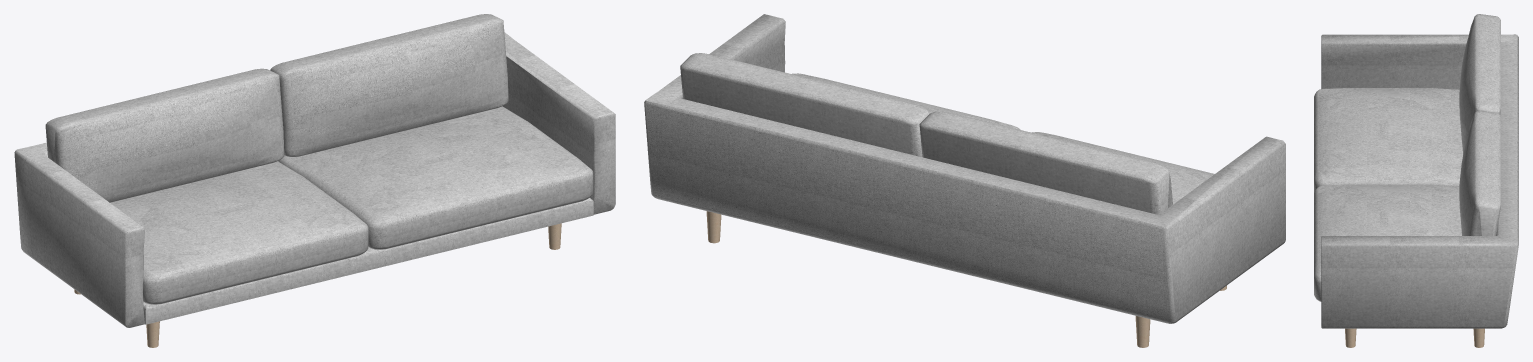
3 renders of one model, left to right at view 1: azimuth 30°, elevation 25°; view 2: azimuth 150°, elevation 25°; view 3: azimuth 270°, elevation 25°, orthographic. The views are drawn at different scales.
Parts seen in each view (by area): view 1: group_1, group_4, group_3, group_6, group_5; view 2: group_1, group_5, group_6, group_3, group_4; view 3: group_1, group_3, group_4, group_6, group_5, SketchUp (×2).
Part boxes in pixels (x1=…): group_1: x1=14, y1=32, x2=615, y2=327; group_4: x1=278, y1=106, x2=593, y2=249; group_3: x1=110, y1=161, x2=368, y2=304; group_6: x1=270, y1=14, x2=508, y2=156; group_5: x1=45, y1=68, x2=284, y2=202; group_1: x1=644, y1=14, x2=1285, y2=323; group_5: x1=919, y1=111, x2=1172, y2=214; group_6: x1=680, y1=53, x2=929, y2=156; group_3: x1=1032, y1=132, x2=1214, y2=204; group_4: x1=792, y1=73, x2=1020, y2=129; group_1: x1=1321, y1=34, x2=1518, y2=328; group_3: x1=1314, y1=88, x2=1462, y2=192; group_4: x1=1314, y1=184, x2=1461, y2=301; group_6: x1=1459, y1=110, x2=1500, y2=235; group_5: x1=1459, y1=14, x2=1500, y2=154; SketchUp (×2): x1=1345, y1=328, x2=1484, y2=347.
Bounding box in the file's own units: 86.81 × 35.63 × 29.12.
